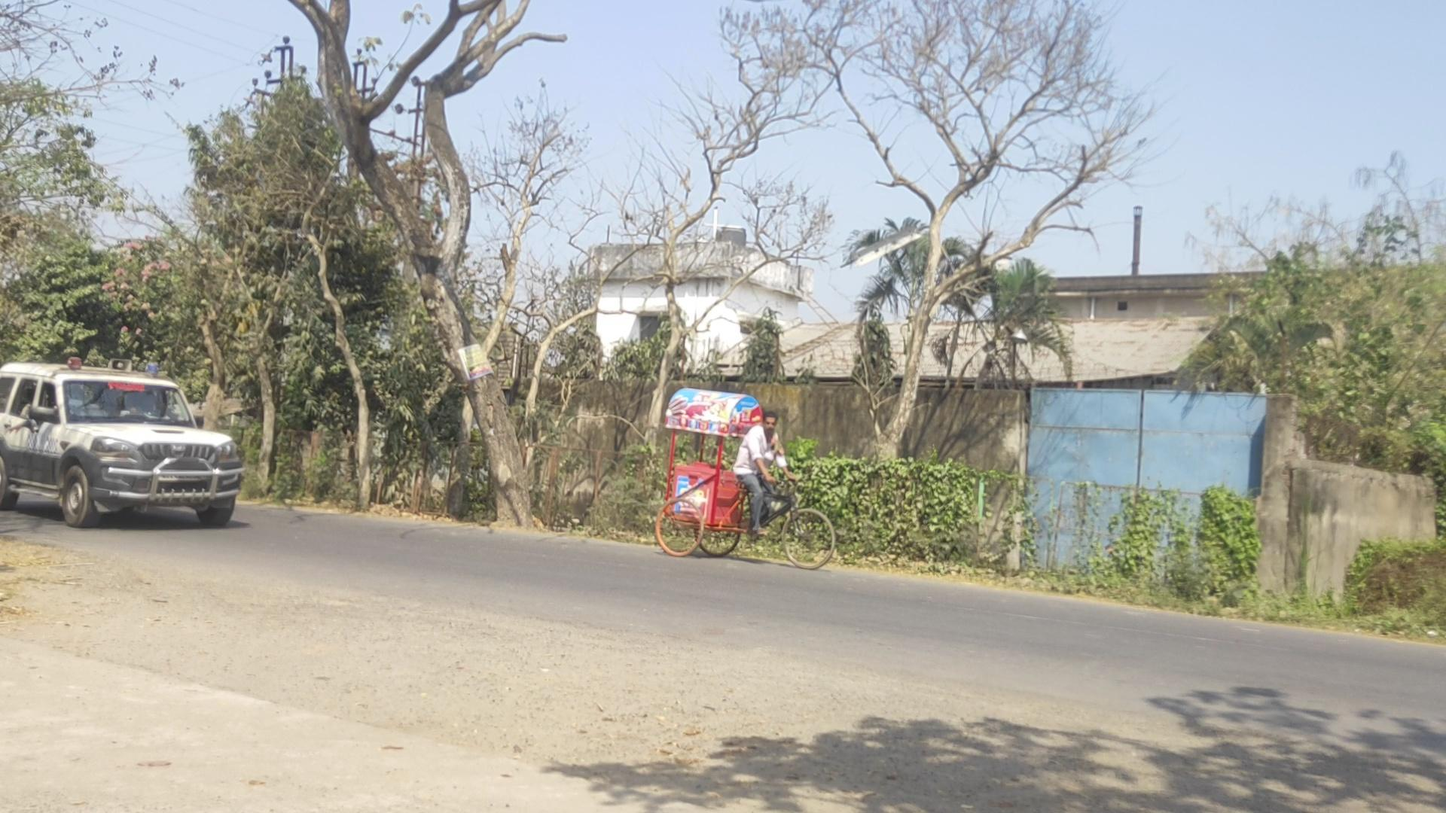car: (1, 358, 244, 528)
